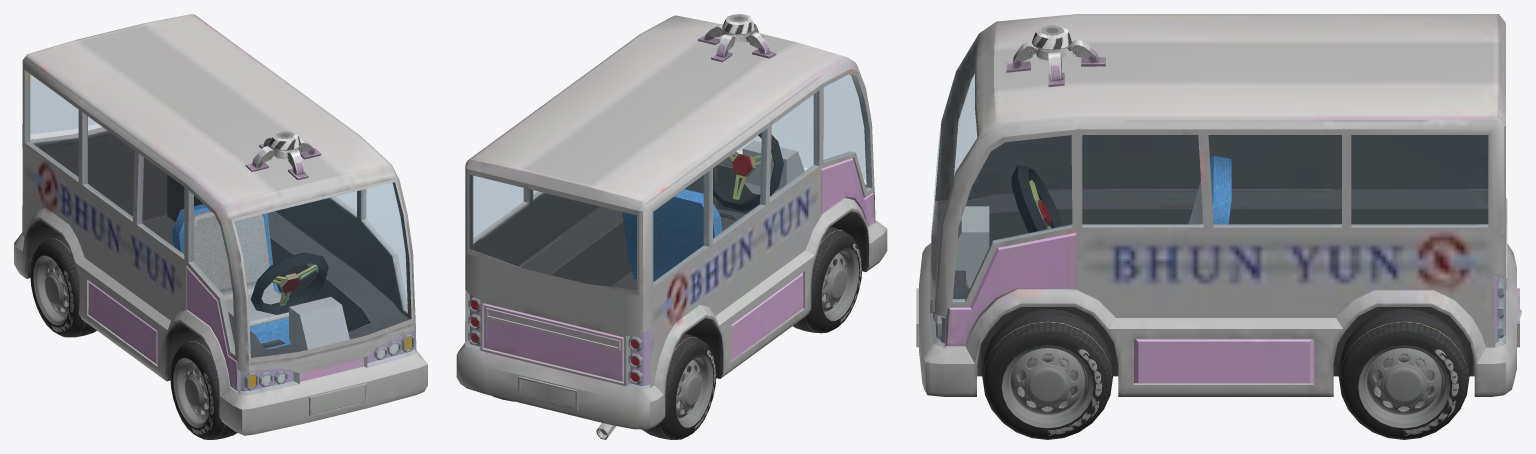
The model's file is 12-Bus-Stock-White.glb.
The picture shows the model from 3 angles, left to right: view 1: azimuth 30°, elevation 25°; view 2: azimuth 150°, elevation 25°; view 3: azimuth 270°, elevation 25°; orthographic projection. The views are drawn at different scales.
Parts seen in each view (by area): view 1: Bus, Glass_002, Regular, Tire (×2), Aero (×2), Torus, Weapon_Mount-Default_OBJ_3, INT_WHEEL_005; view 2: Bus, Glass_002, Tire (×2), Regular, Aero (×2), Torus, INT_WHEEL_005, Weapon_Mount-Default_OBJ_3; view 3: Bus, Glass_002, Tire (×2), Aero (×2), Torus, Regular, Weapon_Mount-Default_OBJ_3.
Part boxes in pixels (bbox=[...]): Bus: bbox=[14, 14, 427, 435]; Glass_002: bbox=[25, 71, 415, 394]; Regular: bbox=[172, 204, 290, 348]; Tire (×2): bbox=[30, 235, 237, 439]; Aero (×2): bbox=[33, 255, 209, 428]; Torus: bbox=[250, 252, 328, 314]; Weapon_Mount-Default_OBJ_3: bbox=[269, 131, 301, 159]; INT_WHEEL_005: bbox=[271, 264, 318, 306]; Bus: bbox=[456, 15, 887, 429]; Glass_002: bbox=[465, 74, 871, 388]; Tire (×2): bbox=[642, 226, 862, 439]; Regular: bbox=[622, 189, 722, 281]; Aero (×2): bbox=[675, 248, 859, 427]; Torus: bbox=[713, 132, 783, 211]; INT_WHEEL_005: bbox=[729, 151, 772, 199]; Weapon_Mount-Default_OBJ_3: bbox=[722, 14, 755, 41]; Bus: bbox=[916, 14, 1519, 396]; Glass_002: bbox=[930, 40, 1505, 346]; Tire (×2): bbox=[982, 308, 1469, 439]; Aero (×2): bbox=[1001, 345, 1449, 428]; Torus: bbox=[1011, 165, 1063, 232]; Regular: bbox=[1188, 155, 1231, 224]; Weapon_Mount-Default_OBJ_3: bbox=[1031, 25, 1072, 60].
Bounding box in the file's own units: 4.7 × 6.57 × 10.12.
Materials: 9 (8 with a texture image).
